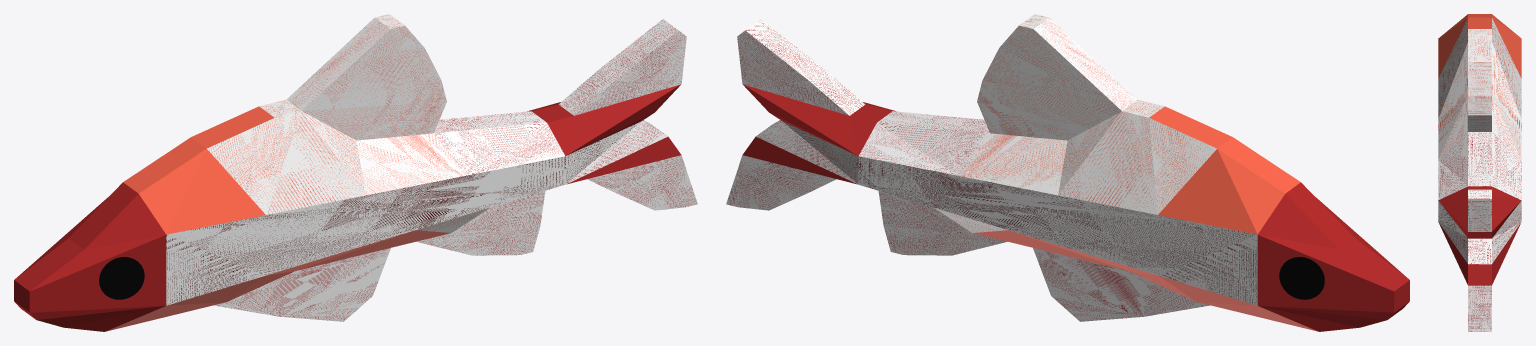
File: cherrybarb.obj
3 views of the same model, side by side, from view 1: azimuth 30°, elevation 25°; view 2: azimuth 150°, elevation 25°; view 3: azimuth 270°, elevation 25° (orthographic). The views are drawn at different scales.
Visible parts, largest first — view 1: SketchUp, SketchUp_ID40; view 2: SketchUp, SketchUp_ID40; view 3: SketchUp, SketchUp_ID40.
Boxes of the visible parts, x1=… form: SketchUp: x1=14, y1=14, x2=697, y2=331; SketchUp_ID40: x1=123, y1=100, x2=462, y2=234; SketchUp: x1=726, y1=14, x2=1409, y2=331; SketchUp_ID40: x1=959, y1=100, x2=1300, y2=234; SketchUp: x1=1438, y1=18, x2=1521, y2=331; SketchUp_ID40: x1=1438, y1=14, x2=1521, y2=158.
Size of the model in its own units: 4.91 by 1.98 by 0.7.
